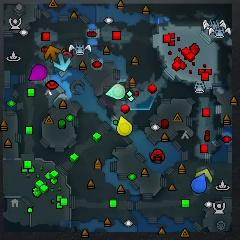p1: (190, 173, 207, 194)
p2: (106, 84, 125, 99)
p3: (28, 64, 48, 81)
p4: (116, 115, 132, 136)
x2: (195, 169, 213, 182)
x3: (53, 53, 72, 72)
x5: (44, 45, 61, 61)
